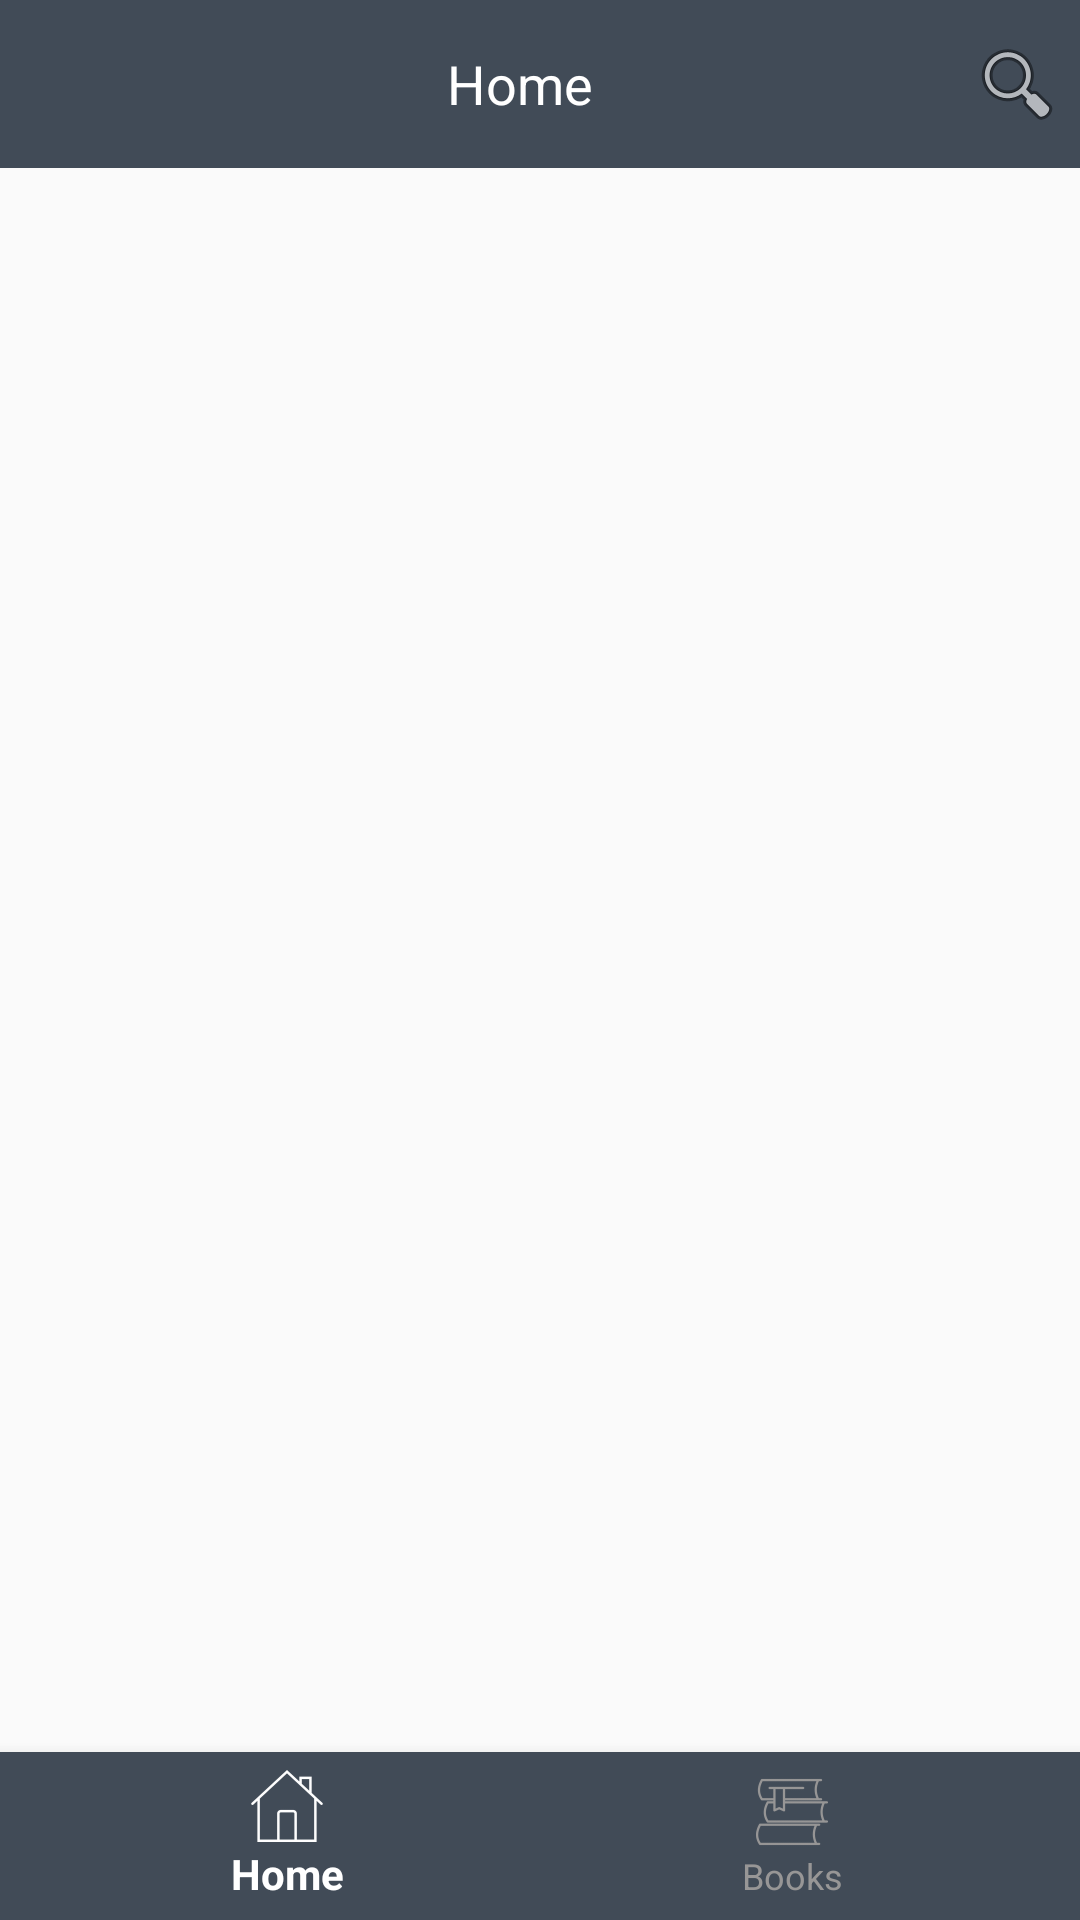

Named icons in this screenshot (1080w x 1920h) and their bounding boxes, (x1=x1, y1=y1, x2=x2, y2=y2):
search: (x1=982, y1=49, x2=1052, y2=120)
